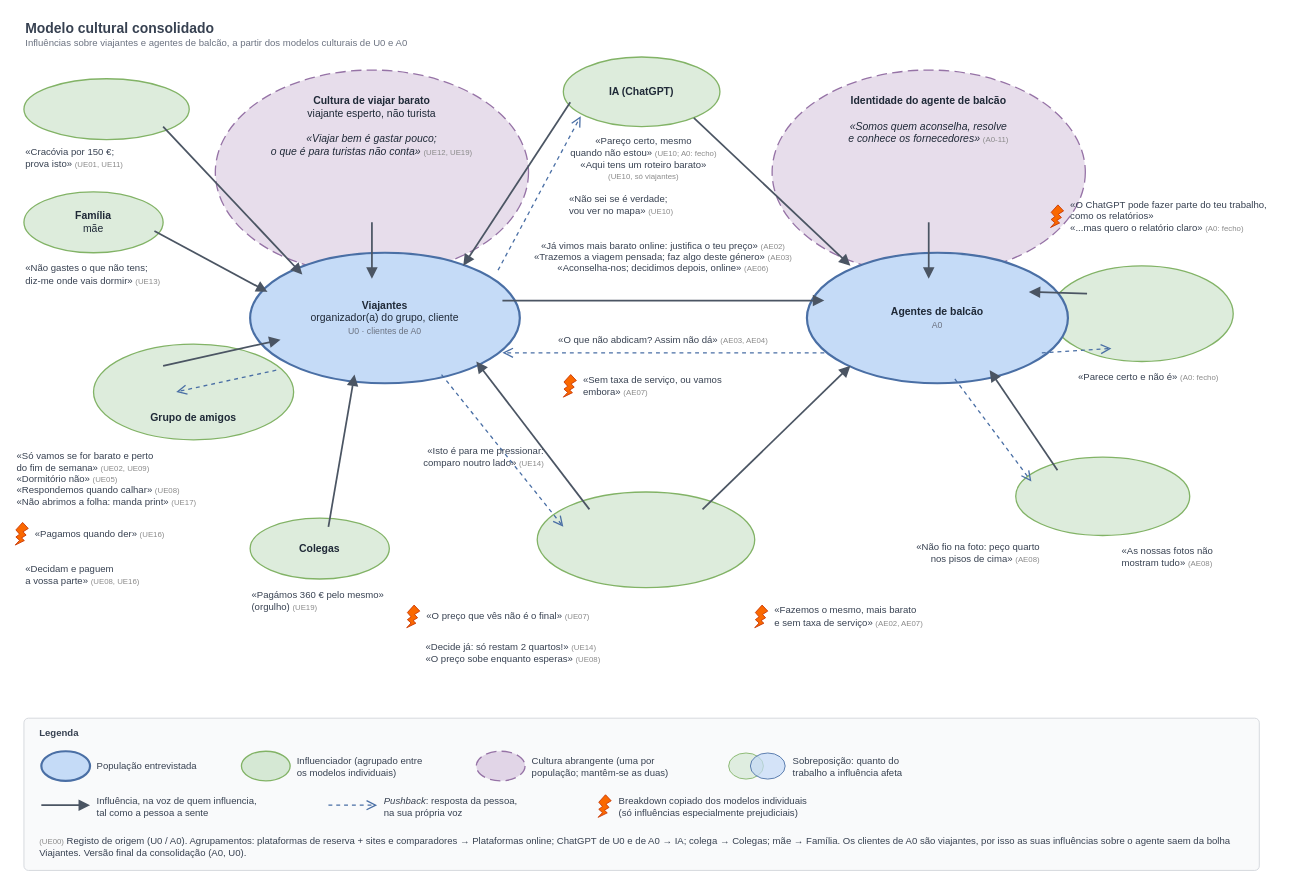
The diagram is 1310 pixels wide and 886 high, and some of its shapes have lost their labels. Each missing label, with the box of its shape:
Criadores de conteúdo: (23, 78, 189, 140)
Fornecedores hotéis: (1015, 456, 1190, 536)
Plataformas online reservas, comparadores: (536, 491, 755, 588)
Supervisor chefia da agência: (1049, 265, 1233, 362)
